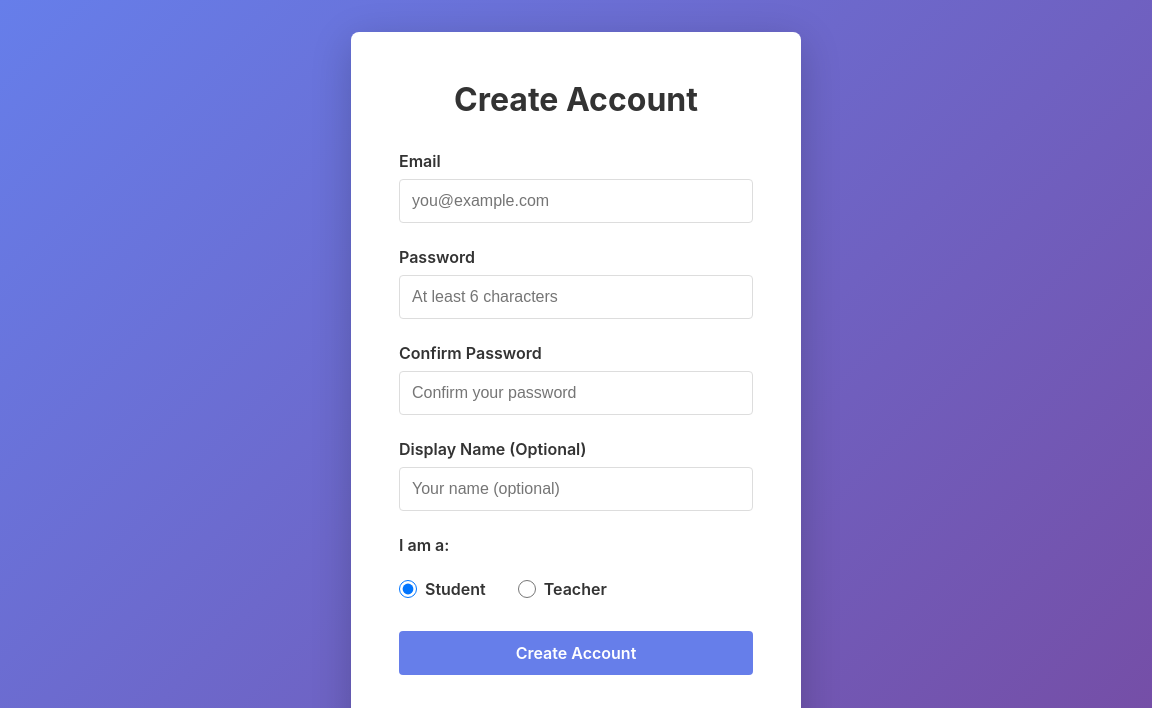
Test: RegisterPage Component › Role Selection › should allow changing from student to teacher
Expected: the radio button labelled "Student" is checked, [399, 580, 417, 598]
Click the radio button labelled "Teacher".
click(527, 589)  # box [518, 580, 536, 598]
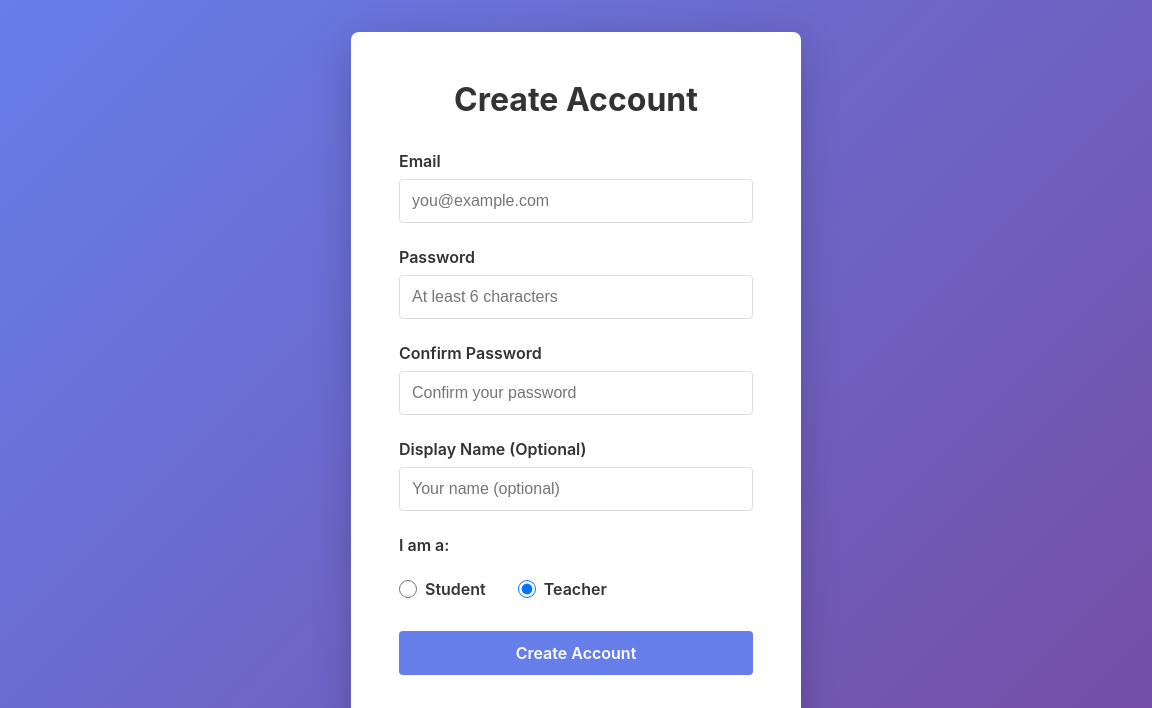
Expected: the radio button labelled "Teacher" is checked, [518, 580, 536, 598]
Expected: the radio button labelled "Student" is not checked, [399, 580, 417, 598]
